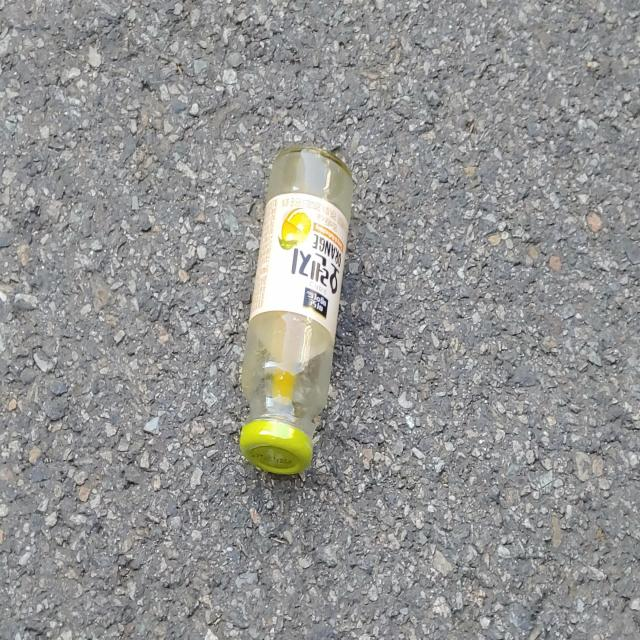glass: (241, 147, 353, 474)
